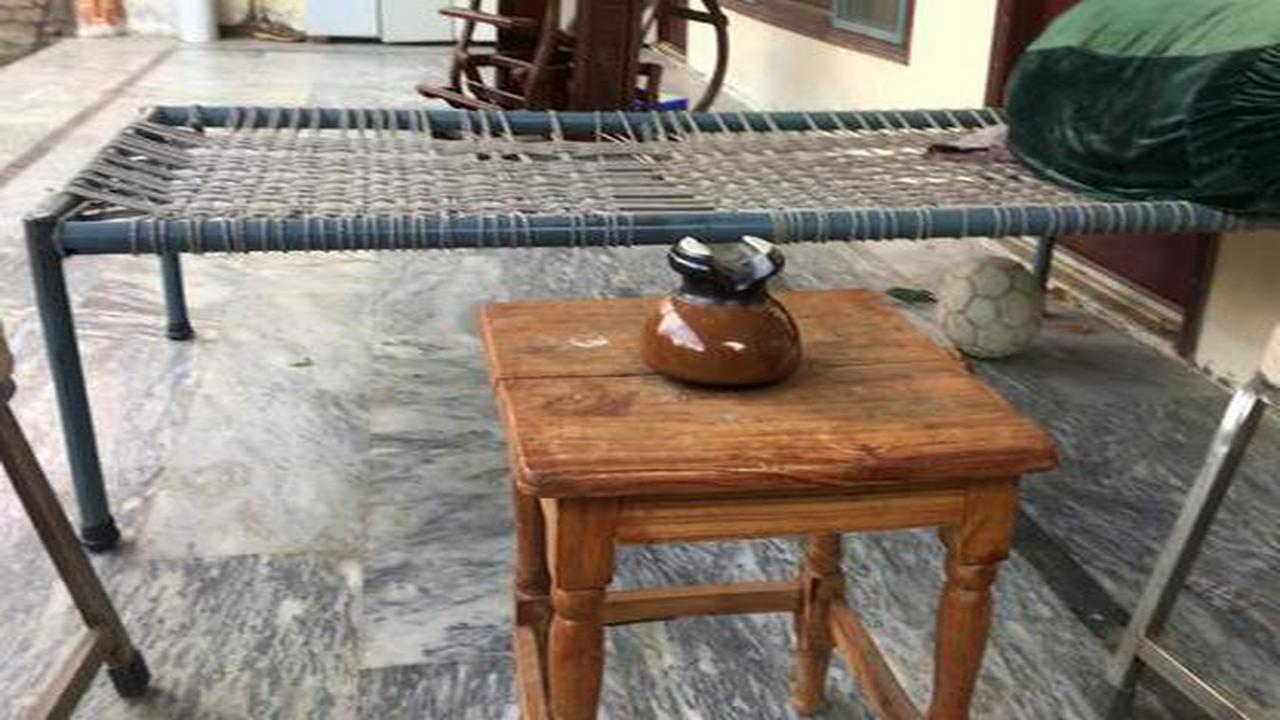insulator_pin: (610, 217, 825, 400)
